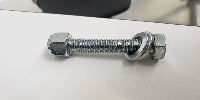FinishedAssembly: (45, 30, 169, 65)
